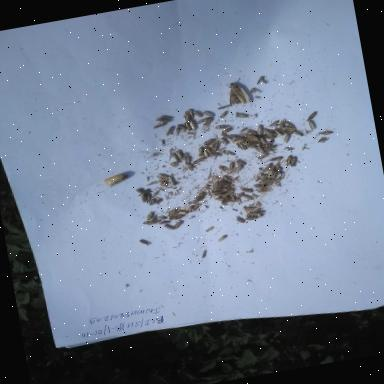pbw: (192, 188, 208, 202), (248, 181, 268, 192), (154, 116, 174, 127), (244, 131, 260, 144), (268, 154, 288, 164), (316, 128, 336, 138), (181, 151, 193, 167), (304, 110, 320, 122), (162, 222, 178, 234), (215, 232, 232, 243), (289, 154, 302, 168), (139, 186, 152, 200), (172, 219, 187, 231), (256, 186, 274, 196), (220, 124, 238, 134), (260, 162, 275, 174), (168, 158, 184, 169), (255, 121, 266, 137), (248, 209, 264, 220), (213, 122, 230, 132), (248, 206, 265, 216), (141, 219, 158, 229), (231, 164, 244, 177), (247, 126, 261, 138), (162, 126, 176, 138), (255, 74, 269, 86), (138, 238, 152, 250), (186, 160, 200, 172), (232, 214, 246, 226), (208, 182, 222, 194), (216, 102, 232, 112), (228, 132, 244, 142), (240, 192, 256, 202), (256, 151, 272, 161), (190, 156, 206, 166), (263, 144, 283, 152), (234, 158, 250, 168), (222, 183, 238, 193), (202, 145, 212, 161), (262, 126, 275, 138), (217, 163, 230, 175), (181, 111, 193, 124), (202, 116, 216, 127), (235, 141, 249, 152), (176, 121, 190, 132), (282, 119, 296, 130), (187, 107, 197, 122), (222, 174, 237, 184), (264, 138, 276, 150), (138, 192, 150, 204), (265, 168, 277, 180), (205, 145, 217, 157), (274, 127, 286, 139), (270, 170, 282, 182), (258, 136, 270, 148), (143, 210, 155, 222), (166, 208, 178, 220), (307, 120, 319, 132), (246, 142, 262, 151), (274, 176, 288, 186), (202, 136, 216, 146), (168, 175, 178, 189), (260, 178, 274, 188), (189, 118, 199, 132), (275, 164, 285, 178), (195, 116, 210, 125), (240, 186, 255, 195), (190, 202, 202, 213), (207, 138, 218, 150), (218, 109, 230, 120), (190, 108, 202, 119), (170, 150, 181, 162), (146, 196, 158, 207), (160, 112, 173, 122), (232, 136, 245, 146), (224, 148, 237, 158), (152, 122, 168, 130), (148, 198, 164, 206), (220, 133, 234, 142), (266, 119, 280, 128), (222, 189, 236, 198), (219, 136, 230, 147), (159, 178, 170, 189), (238, 124, 250, 134), (174, 148, 184, 160), (182, 205, 194, 215), (134, 187, 146, 197), (292, 128, 304, 138), (146, 216, 158, 226), (282, 132, 292, 144), (203, 225, 216, 234), (254, 210, 268, 218), (220, 180, 234, 188), (226, 160, 234, 174), (154, 214, 168, 222), (243, 204, 257, 212), (284, 124, 298, 132), (212, 188, 226, 196), (209, 151, 223, 159), (176, 208, 190, 216), (221, 196, 231, 207), (255, 146, 266, 156), (196, 146, 205, 158), (285, 154, 294, 166), (160, 172, 172, 181), (276, 118, 286, 128), (235, 191, 245, 201), (184, 122, 193, 133), (212, 196, 226, 203), (172, 213, 186, 220), (246, 215, 258, 223), (150, 190, 162, 198), (158, 219, 171, 226), (259, 174, 269, 183), (174, 127, 182, 137), (204, 110, 213, 118), (199, 250, 206, 260), (230, 196, 237, 204)
